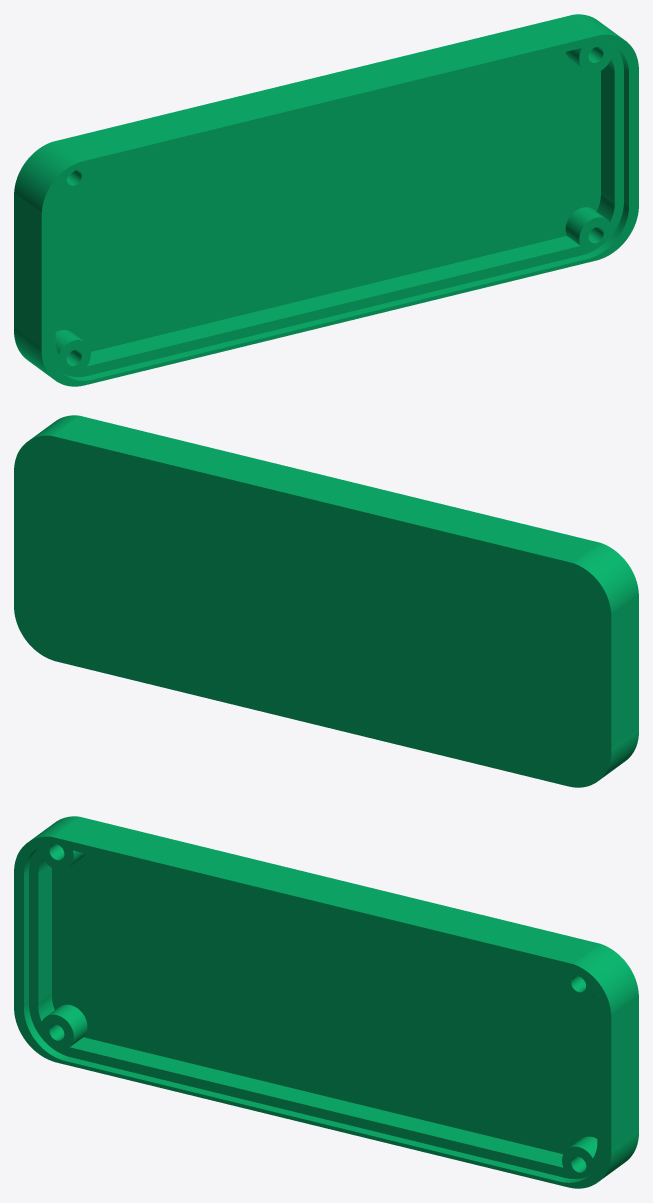
Rendered from AkiraE.obj.
3 views of the same model, one above another, from view 1: azimuth 30°, elevation 25°; view 2: azimuth 150°, elevation 25°; view 3: azimuth 330°, elevation 25° (orthographic).
Parts seen in each view (by area): view 1: Body_13; view 2: Body_13; view 3: Body_13.
Boxes of the visible parts, x1,y1,x2,y2 form: Body_13: (14, 14, 638, 386); Body_13: (14, 415, 638, 787); Body_13: (14, 816, 638, 1188).
Bounding box in the file's own units: 0.1282 × 0.046 × 0.0103.
